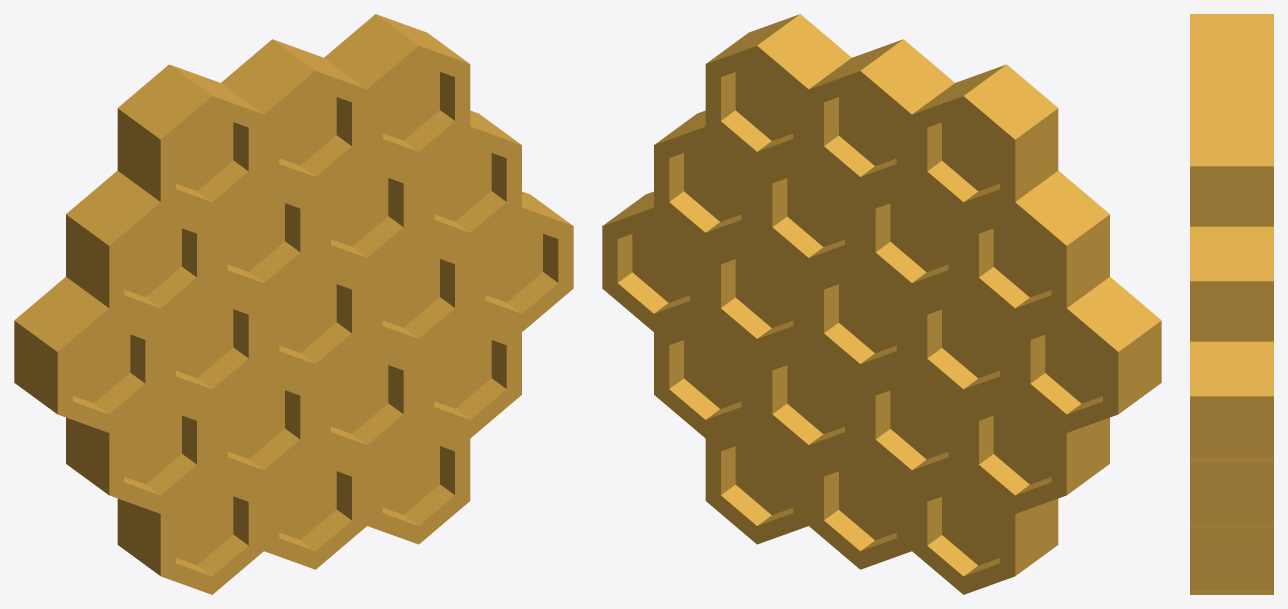
File: alveare_4_version2.fbx
3 renders of one model, left to right at view 1: azimuth 30°, elevation 25°; view 2: azimuth 150°, elevation 25°; view 3: azimuth 270°, elevation 25°, orthographic. The views are drawn at different scales.
Visible parts, largest first — view 1: Cylinder.022; view 2: Cylinder.022; view 3: Cylinder.022.
Part boxes in pixels (x1,y1,x2,y2): Cylinder.022: [14, 14, 573, 594]; Cylinder.022: [602, 14, 1161, 594]; Cylinder.022: [1190, 14, 1273, 594].
Size of the model in its own units: 1512 by 1396 by 219.
